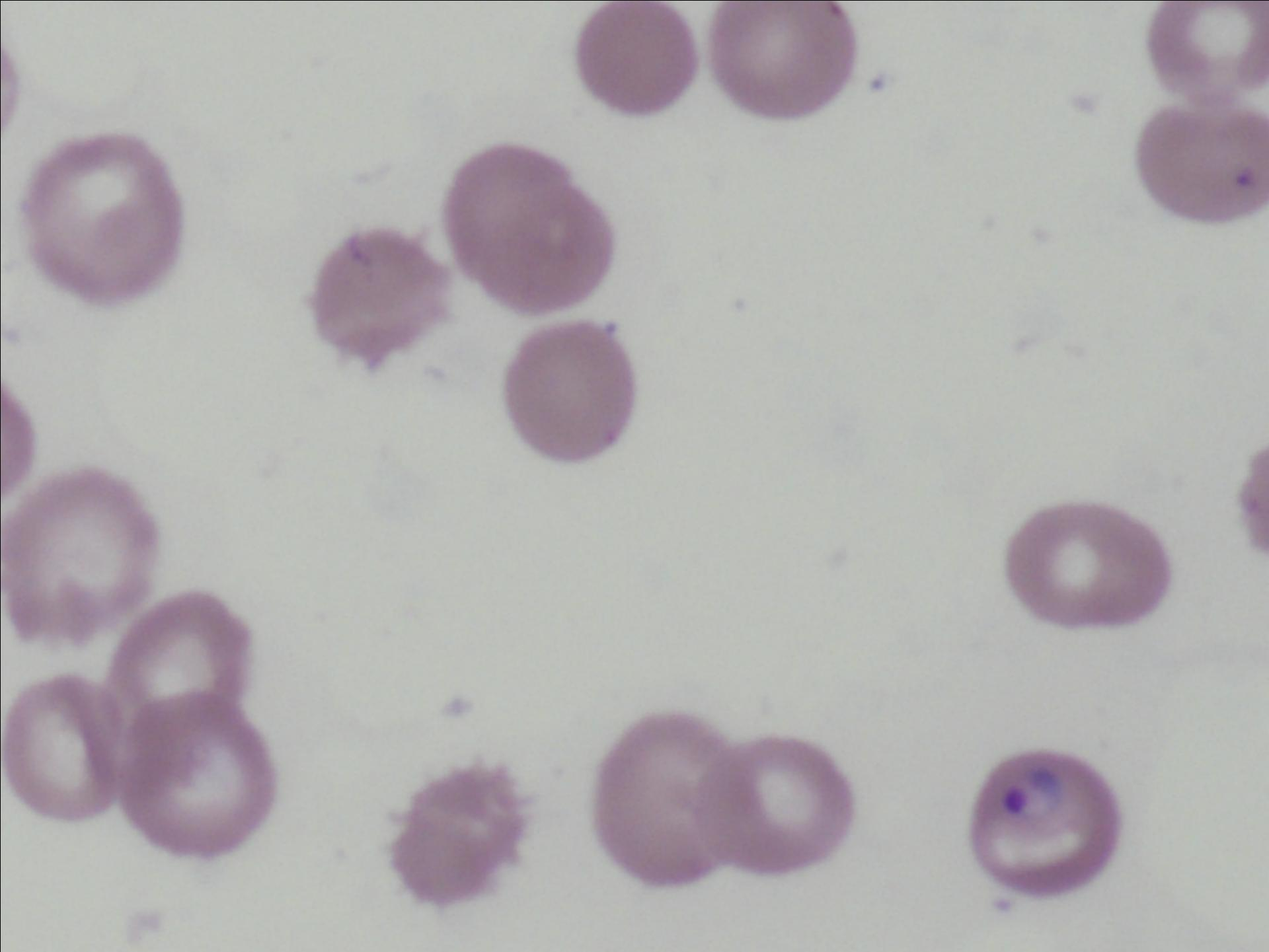Infected: (968, 747, 1118, 896)
Uninfected: (445, 144, 612, 309), (22, 133, 184, 299), (1, 472, 157, 644), (120, 697, 274, 852), (599, 717, 729, 884), (1004, 501, 1167, 627), (389, 766, 529, 905), (706, 739, 850, 874), (310, 229, 449, 362), (502, 322, 632, 458), (2, 677, 118, 819), (110, 598, 246, 719), (712, 1, 855, 116), (1138, 108, 1269, 222), (575, 1, 697, 114), (1145, 2, 1268, 98)
